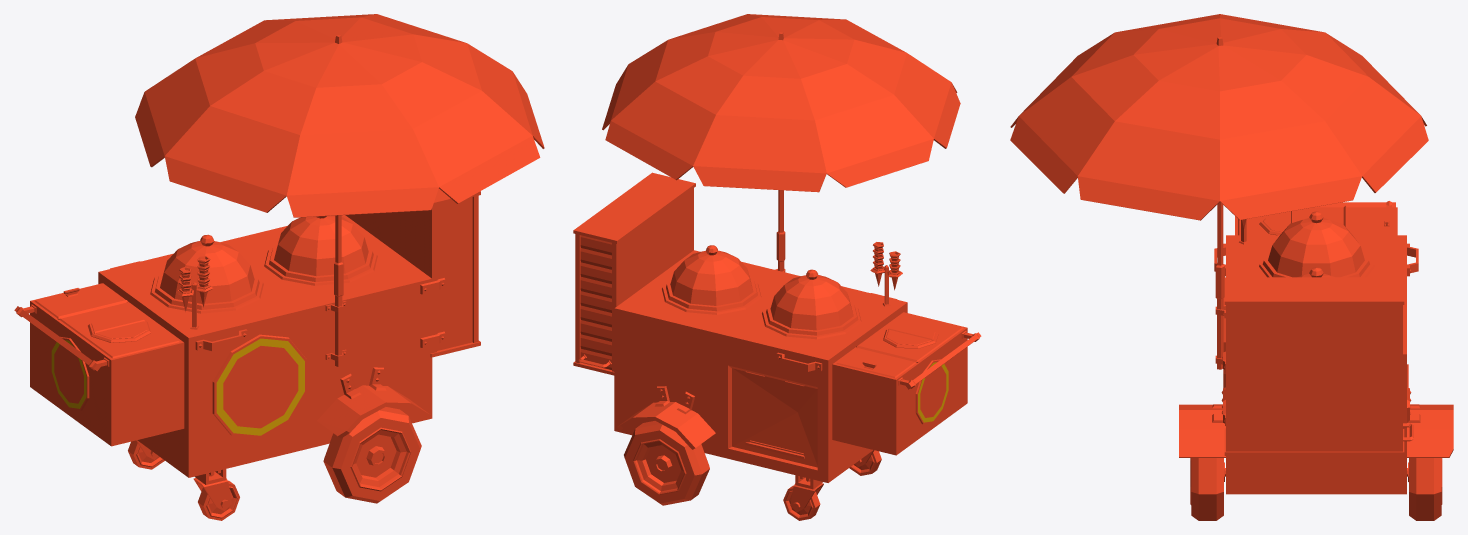
The model's file is SM_Stand_Icecream_City.fbx.
3 renders of one model, left to right at view 1: azimuth 30°, elevation 25°; view 2: azimuth 150°, elevation 25°; view 3: azimuth 270°, elevation 25°, orthographic. The views are drawn at different scales.
Parts seen in each view (by area): view 1: SM_Stand_Icecream_City_Base, SM_Stand_Icecream_City_Wheel_B, SM_Stand_Icecream_City_Lid_L, SM_Stand_Icecream_City_Lid_R, SM_Stand_Icecream_City_Cabinet, SM_Stand_Icecream_City_Wheel_LF; view 2: SM_Stand_Icecream_City_Base, SM_Stand_Icecream_City_Wheel_B, SM_Stand_Icecream_City_Lid_R, SM_Stand_Icecream_City_Lid_L, SM_Stand_Icecream_City_Cabinet, SM_Stand_Icecream_City_Wheel_RF; view 3: SM_Stand_Icecream_City_Base, SM_Stand_Icecream_City_Lid_R, SM_Stand_Icecream_City_Wheel_B, SM_Stand_Icecream_City_Cabinet.
Boxes of the visible parts, <box> form: SM_Stand_Icecream_City_Base: <box>14,14,544,511</box>; SM_Stand_Icecream_City_Wheel_B: <box>323,407,421,503</box>; SM_Stand_Icecream_City_Lid_L: <box>269,215,373,281</box>; SM_Stand_Icecream_City_Lid_R: <box>155,234,259,309</box>; SM_Stand_Icecream_City_Cabinet: <box>34,284,127,319</box>; SM_Stand_Icecream_City_Wheel_LF: <box>198,480,239,520</box>; SM_Stand_Icecream_City_Base: <box>573,14,981,512</box>; SM_Stand_Icecream_City_Wheel_B: <box>624,421,709,505</box>; SM_Stand_Icecream_City_Lid_R: <box>766,269,857,335</box>; SM_Stand_Icecream_City_Lid_L: <box>666,245,757,311</box>; SM_Stand_Icecream_City_Cabinet: <box>836,345,918,378</box>; SM_Stand_Icecream_City_Wheel_RF: <box>783,485,820,520</box>; SM_Stand_Icecream_City_Base: <box>1010,14,1453,494</box>; SM_Stand_Icecream_City_Lid_R: <box>1262,211,1369,277</box>; SM_Stand_Icecream_City_Wheel_B: <box>1190,458,1442,520</box>; SM_Stand_Icecream_City_Cabinet: <box>1343,206,1394,235</box>.
Size of the model in its own units: 2.54 by 2.71 by 2.33.
